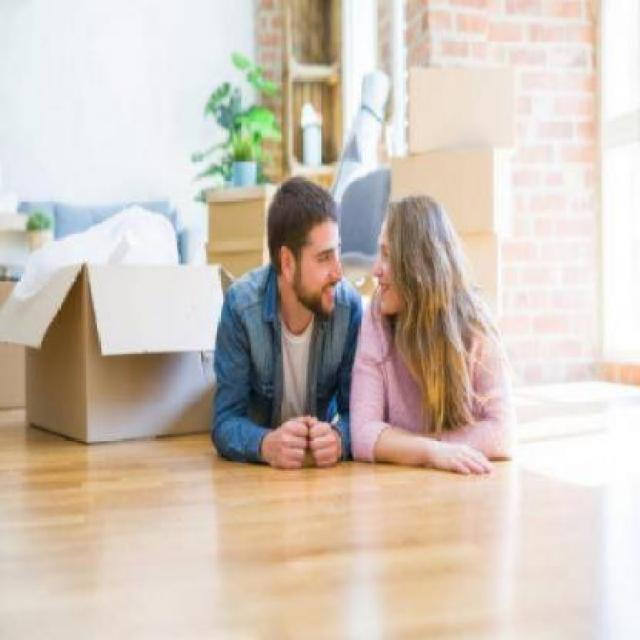box: (1, 214, 234, 466), (379, 134, 527, 249), (401, 49, 534, 158), (449, 208, 517, 328)
